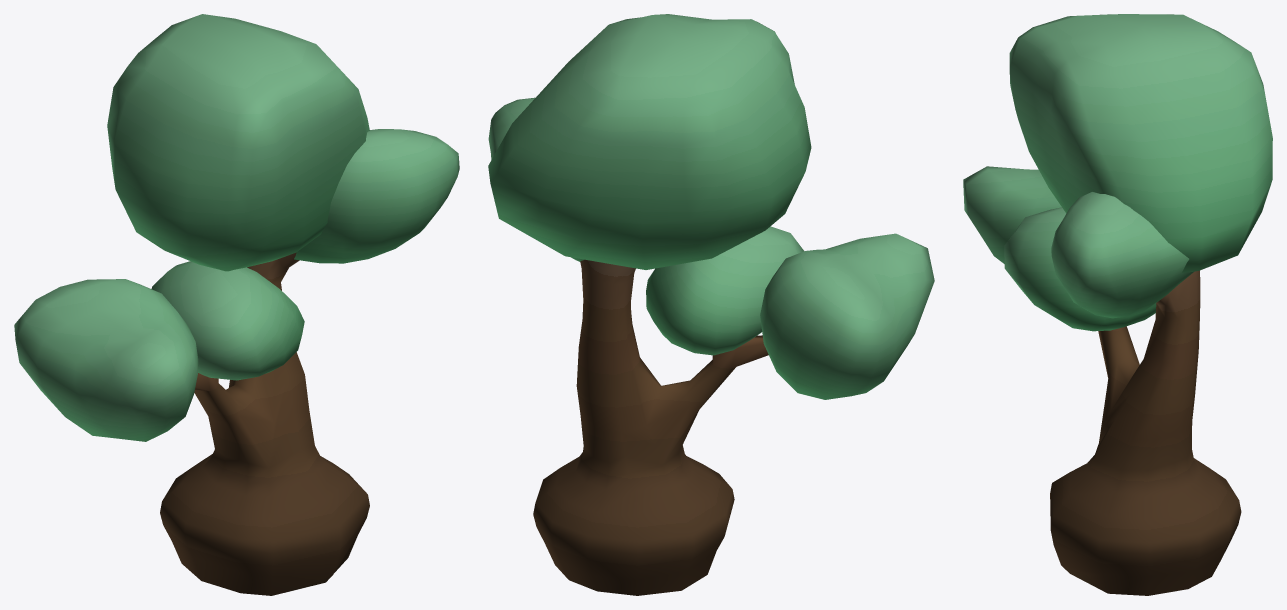
The model's file is SM_tree03.fbx.
The picture shows the model from 3 angles, left to right: view 1: azimuth 30°, elevation 25°; view 2: azimuth 150°, elevation 25°; view 3: azimuth 270°, elevation 25°; orthographic projection. The views are drawn at different scales.
Visible parts, largest first — view 1: SM_tree03; view 2: SM_tree03; view 3: SM_tree03.
Part boxes in pixels (box(x1,y1,x2,y2)): SM_tree03: box(14, 14, 459, 595); SM_tree03: box(488, 14, 934, 595); SM_tree03: box(963, 14, 1272, 595).
Bounding box in the file's own units: 208 × 254 × 138.
